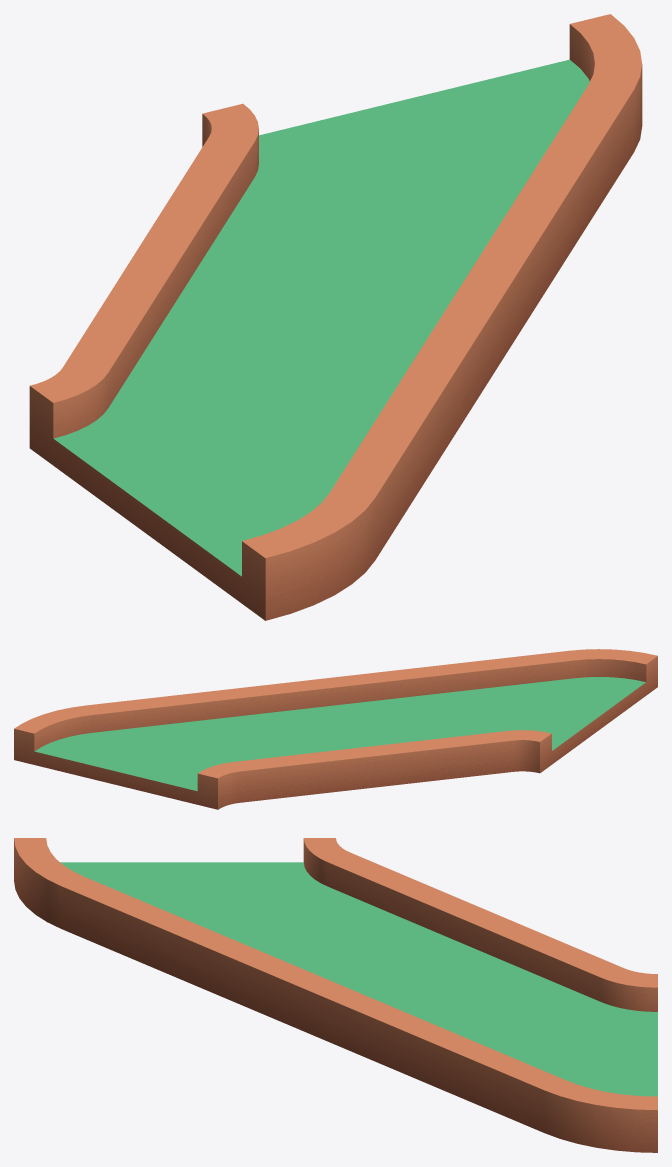
The model's file is skew-large-corner.glb.
The picture shows the model from 3 angles, top to bottom: view 1: azimuth 30°, elevation 25°; view 2: azimuth 150°, elevation 25°; view 3: azimuth 270°, elevation 25°; orthographic projection. The views are drawn at different scales.
Parts seen in each view (by area): view 1: skew-large-corner; view 2: skew-large-corner; view 3: skew-large-corner.
Boxes of the visible parts, bbox=[...] form: skew-large-corner: bbox=[29, 14, 642, 620]; skew-large-corner: bbox=[14, 649, 657, 809]; skew-large-corner: bbox=[14, 838, 657, 1152].
Size of the model in its own units: 2 by 0.1467 by 2.
Materials: 1 (1 with a texture image).
